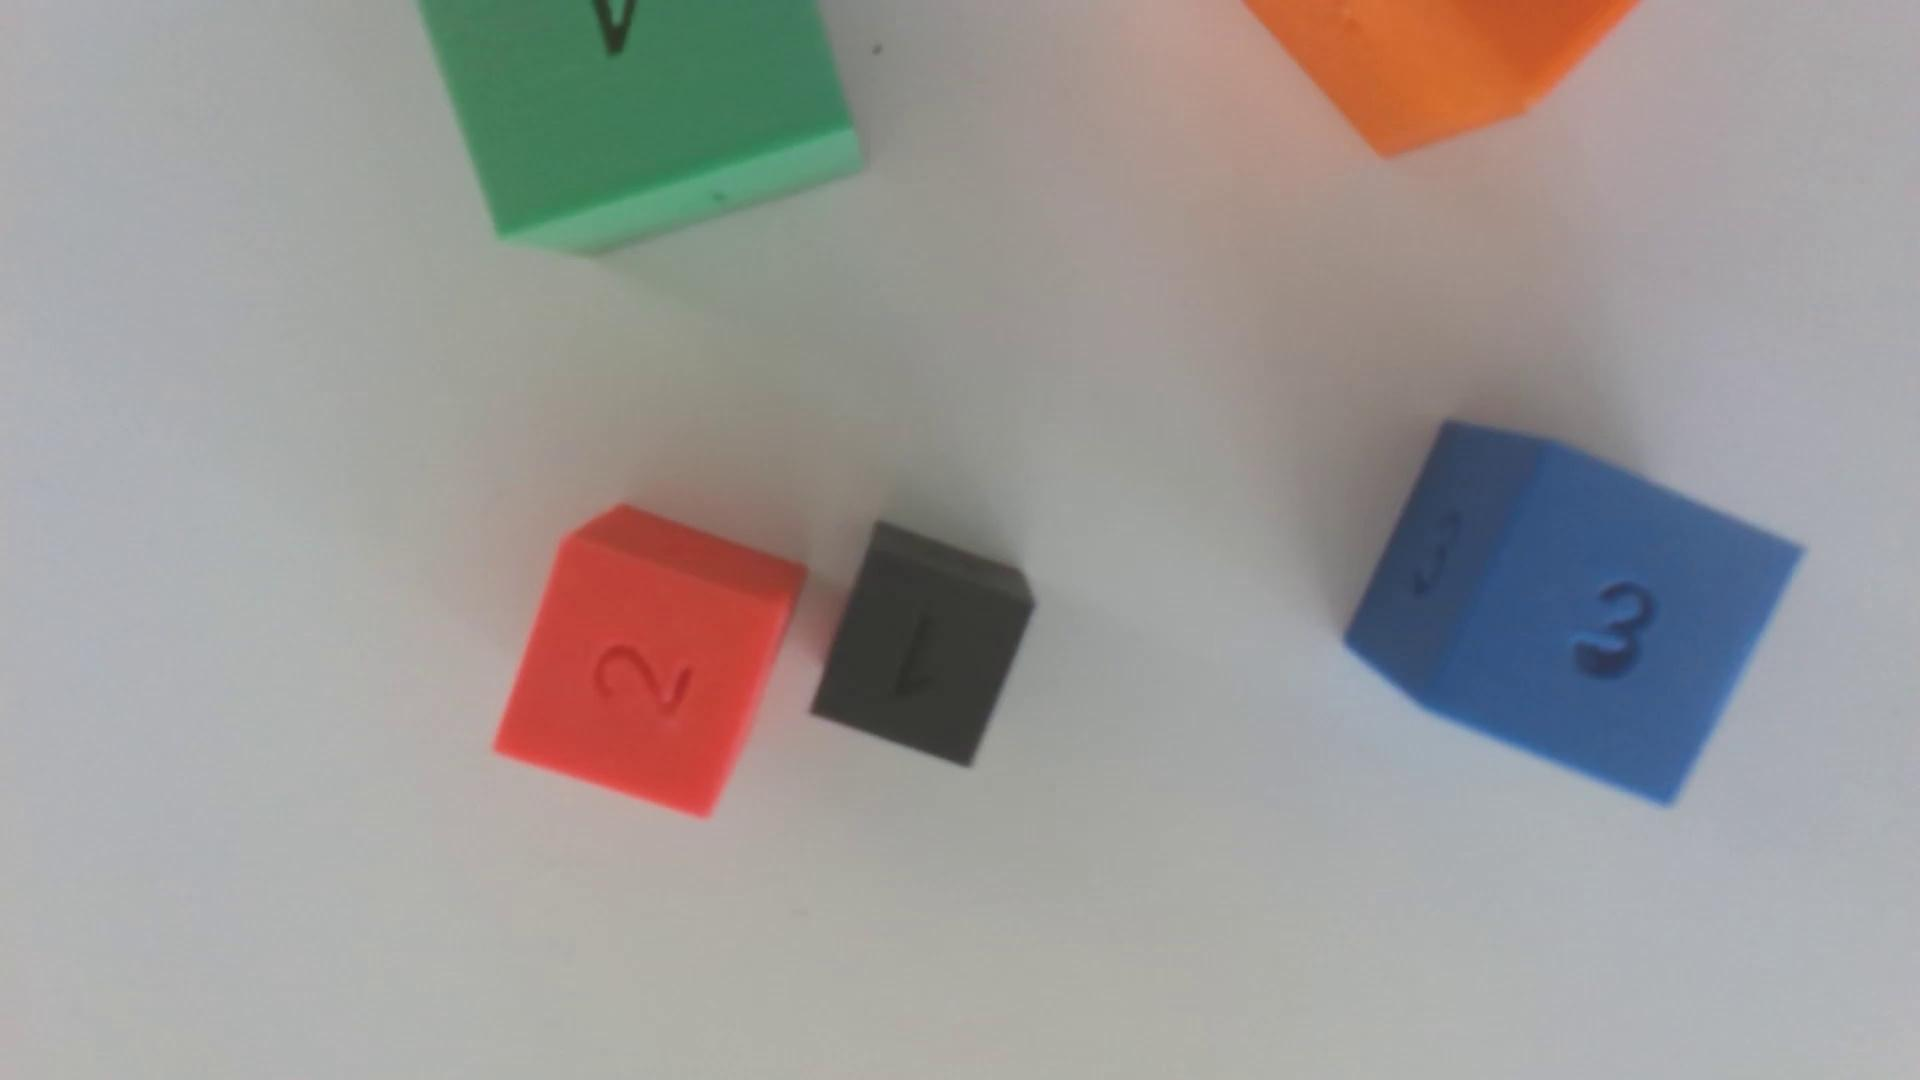black: (811, 521, 1036, 766)
blue: (1346, 422, 1803, 802)
green: (419, 0, 862, 255)
orange: (1245, 0, 1638, 156)
red: (495, 505, 806, 815)
